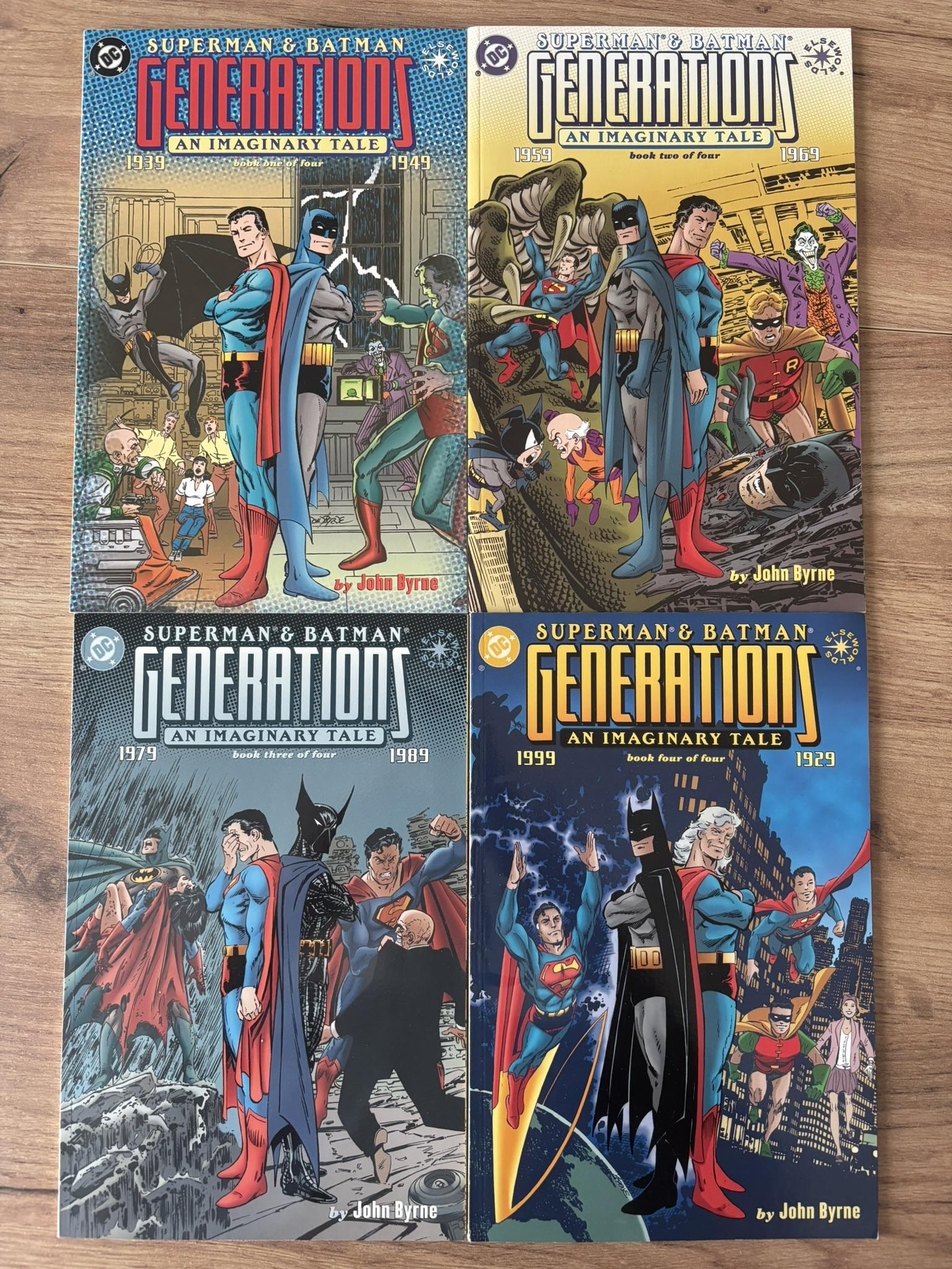comic: (467, 613, 877, 1242), (59, 613, 468, 1242), (71, 26, 468, 615), (468, 24, 863, 612)
